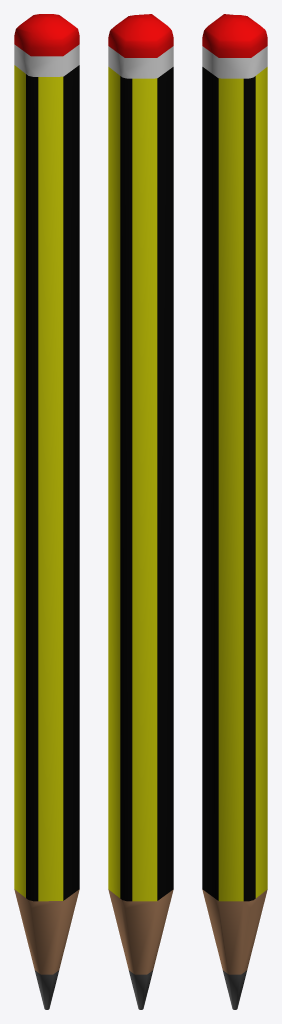
The picture shows the model from 3 angles, left to right: view 1: azimuth 30°, elevation 25°; view 2: azimuth 210°, elevation 25°; view 3: azimuth 270°, elevation 25°; orthographic projection.
Parts seen in each view (by area): view 1: Pencil; view 2: Pencil; view 3: Pencil.
Part boxes in pixels (x1,y1,x2,y2): Pencil: (14,14,79,1009); Pencil: (108,14,173,1009); Pencil: (202,14,267,1009).
Size of the model in its own units: 63.91 by 1204 by 72.
